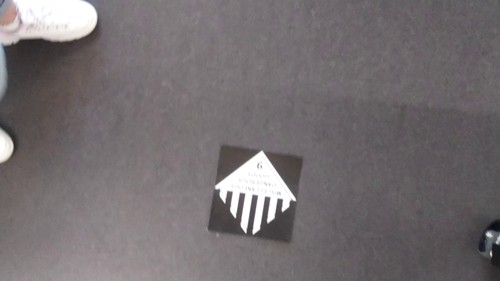misgoods: (213, 151, 299, 240)
